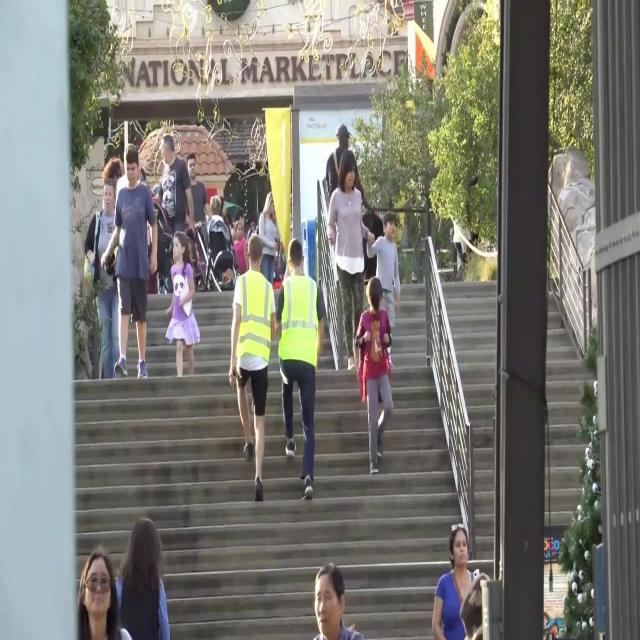vest: (278, 273, 318, 373), (236, 271, 272, 367)
